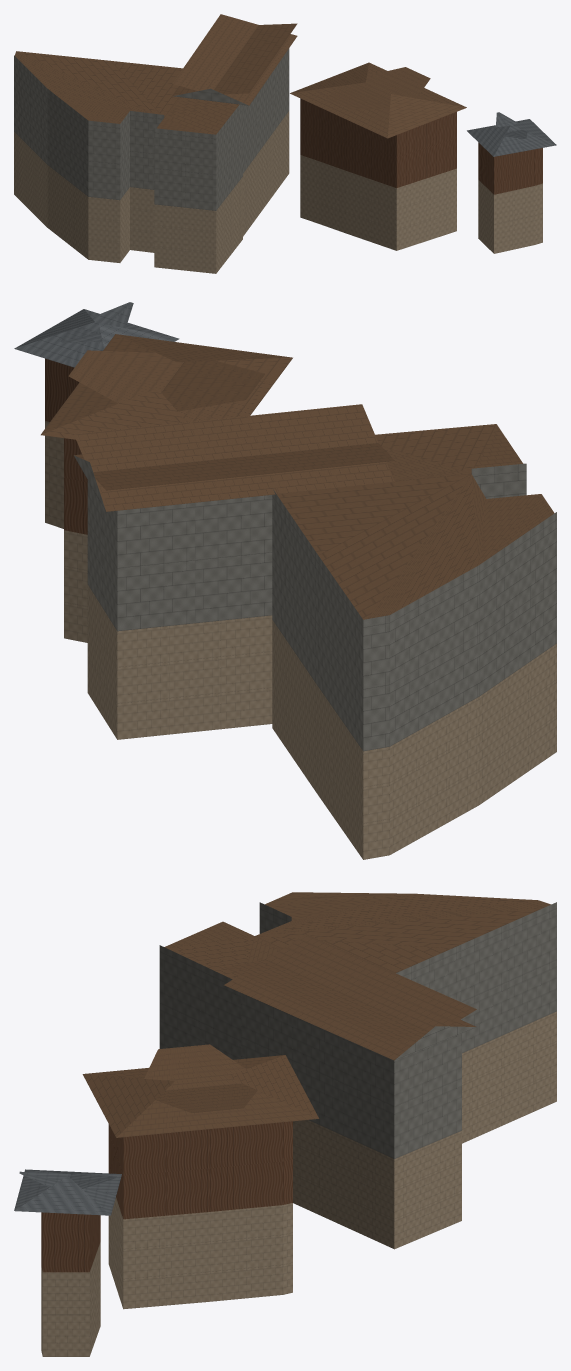
The model's file is bld_c38_47_194.gltf.
3 renders of one model, top to bottom at view 1: azimuth 30°, elevation 25°; view 2: azimuth 150°, elevation 25°; view 3: azimuth 270°, elevation 25°, orthographic. The views are drawn at different scales.
Parts seen in each view (by area): view 1: bld_c38_47_194; view 2: bld_c38_47_194; view 3: bld_c38_47_194.
Boxes of the visible parts, x1,y1,x2,y2 form: bld_c38_47_194: (14, 14, 556, 273); bld_c38_47_194: (14, 302, 556, 859); bld_c38_47_194: (14, 892, 556, 1356).
Bounding box in the file's own units: 32.06 × 12.9 × 27.82.
Materials: 6 (6 with a texture image).
